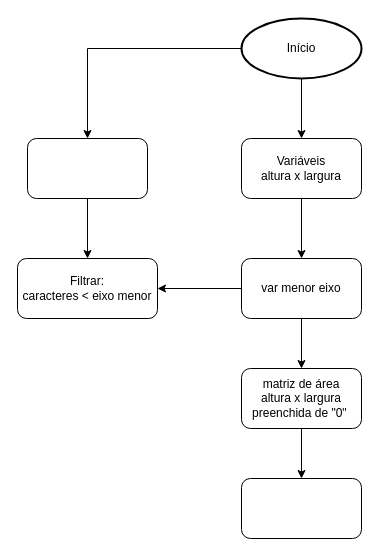
Some shapes in this 380 by 556 pixel diagram are drawn without their labels. The centre of each missing label's shape, as x and y in pixels:
"Fetch Banco de Palavras" belongs at pixel 87 168.
"máximo de caracteres Int (área / 3)" belongs at pixel 301 508.
